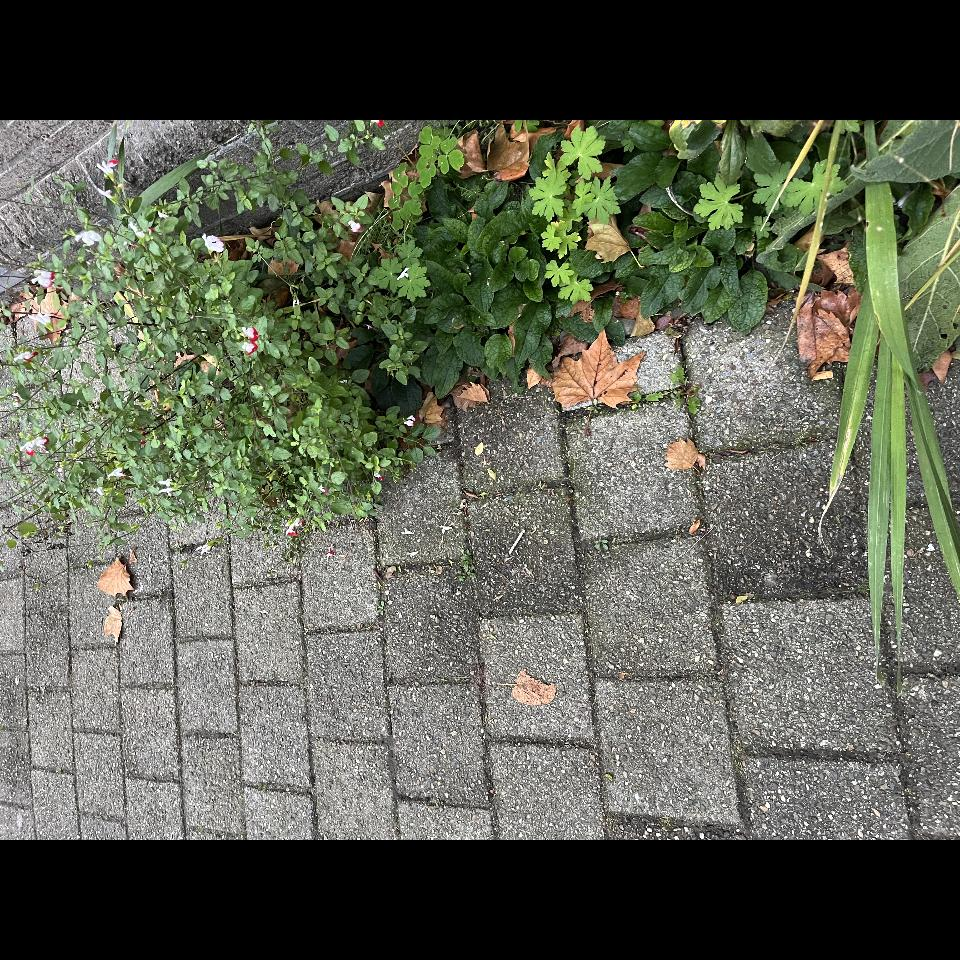weed: (428, 751, 476, 820), (259, 577, 290, 596)
